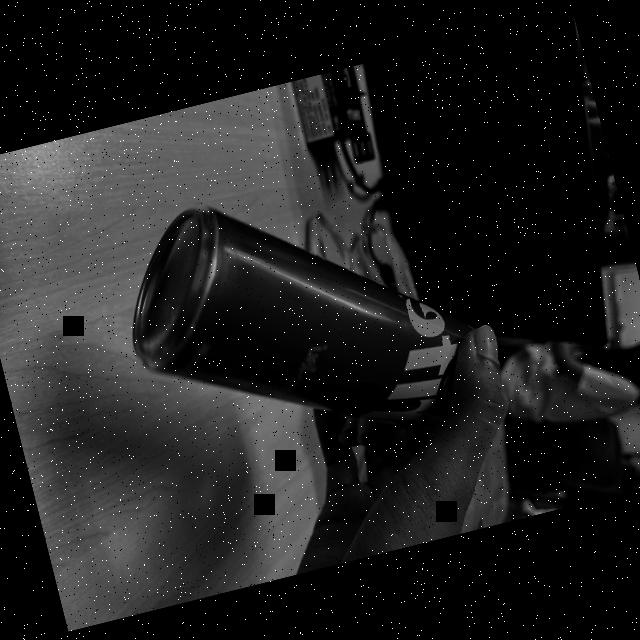can: (90, 128, 518, 524)
